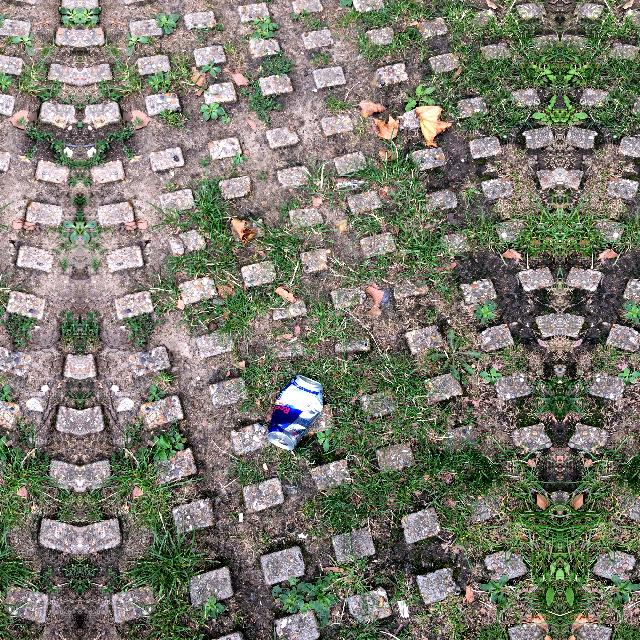Metal: (265, 372, 327, 452)
